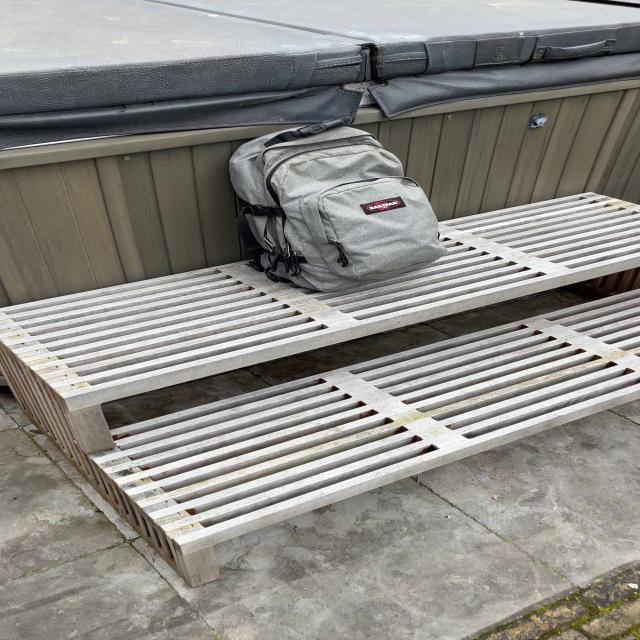backpack: (218, 118, 453, 293)
